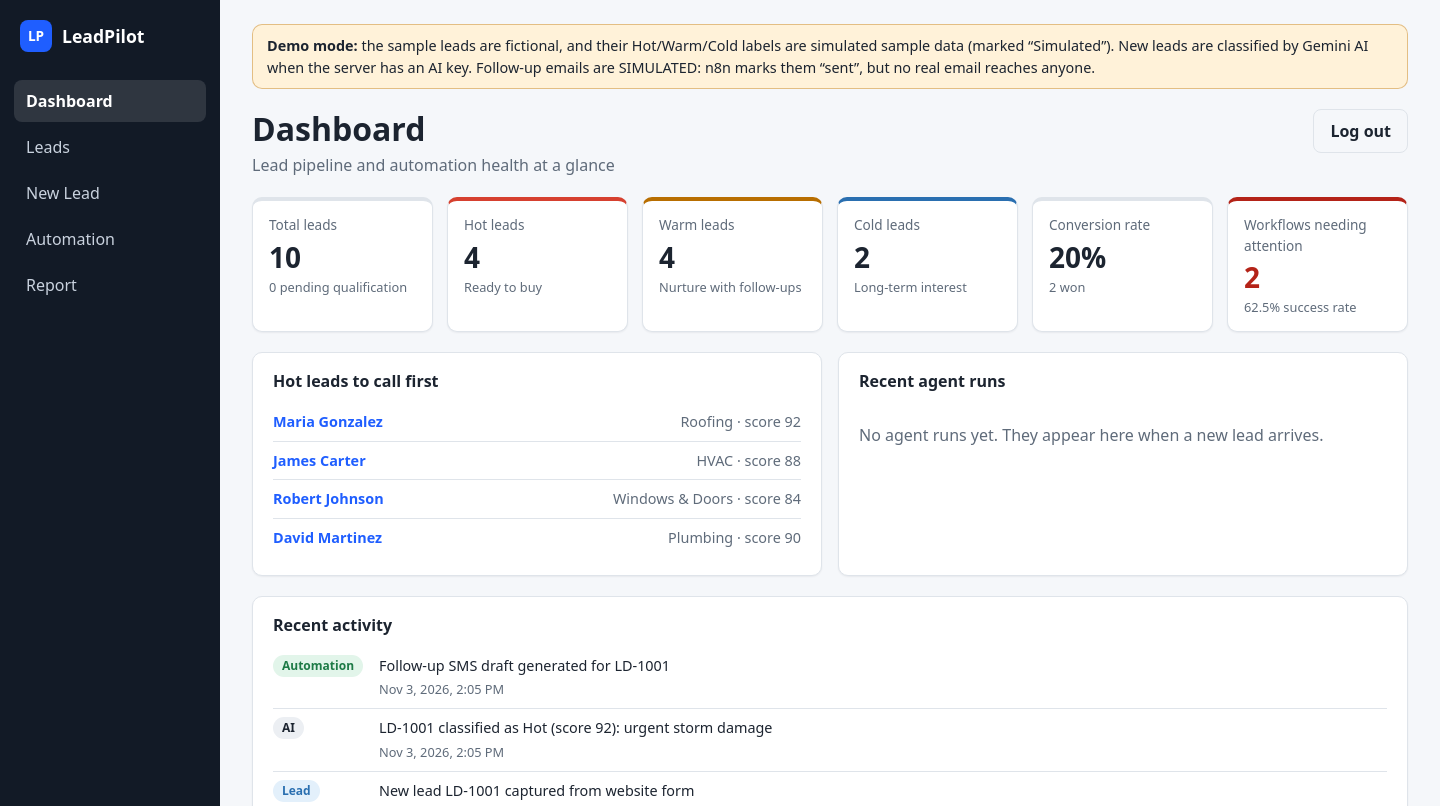
Test: App › shows field errors when an empty lead form is submitted
The width and height of the screenshot is (1440, 806).
Expected: the heading "Hot leads to call first" is shown, left=273, top=370, right=438, bottom=392
Click the button "New Lead" at (110, 193), box left=14, top=172, right=206, bottom=214
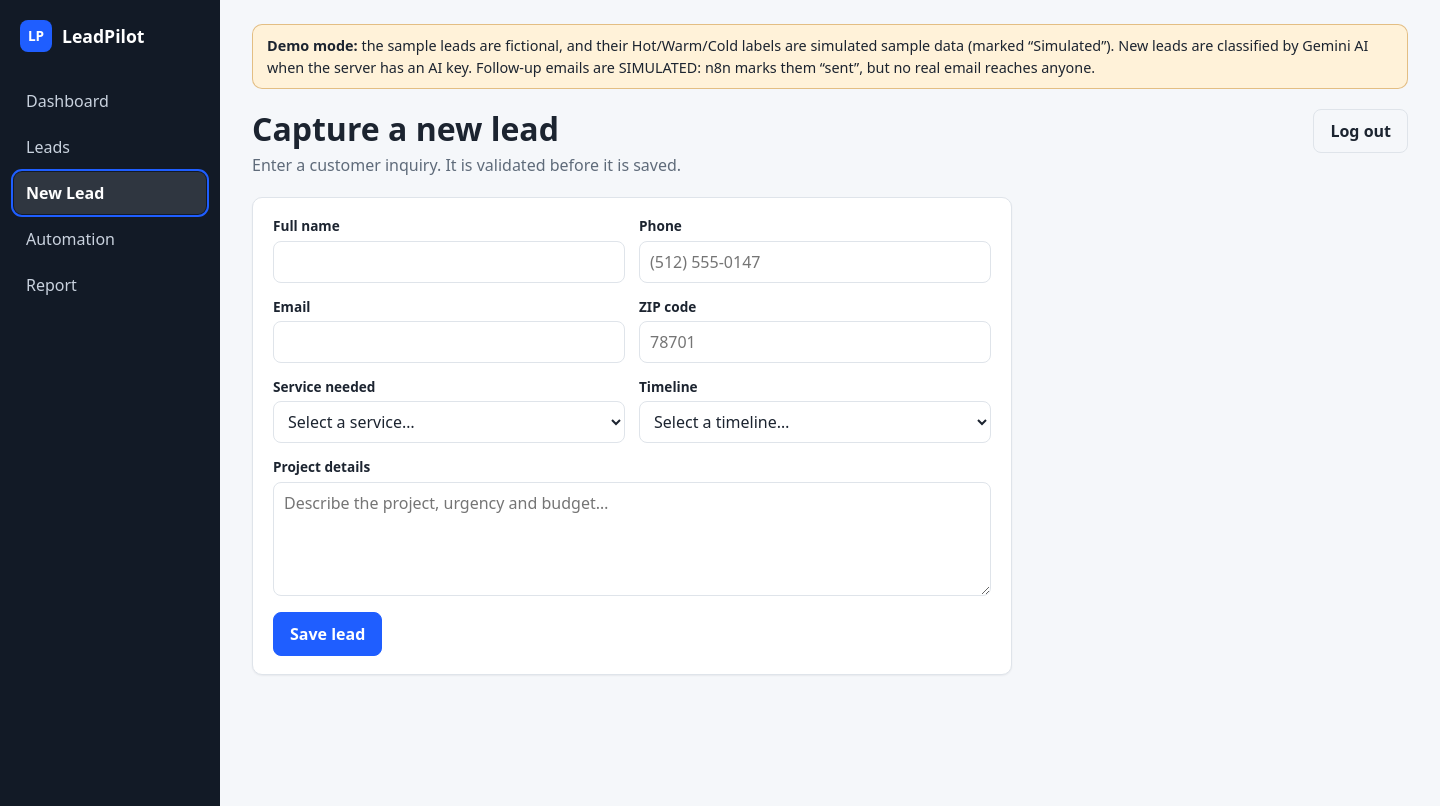
Click the button "Save lead" at (328, 634), box left=273, top=612, right=382, bottom=656
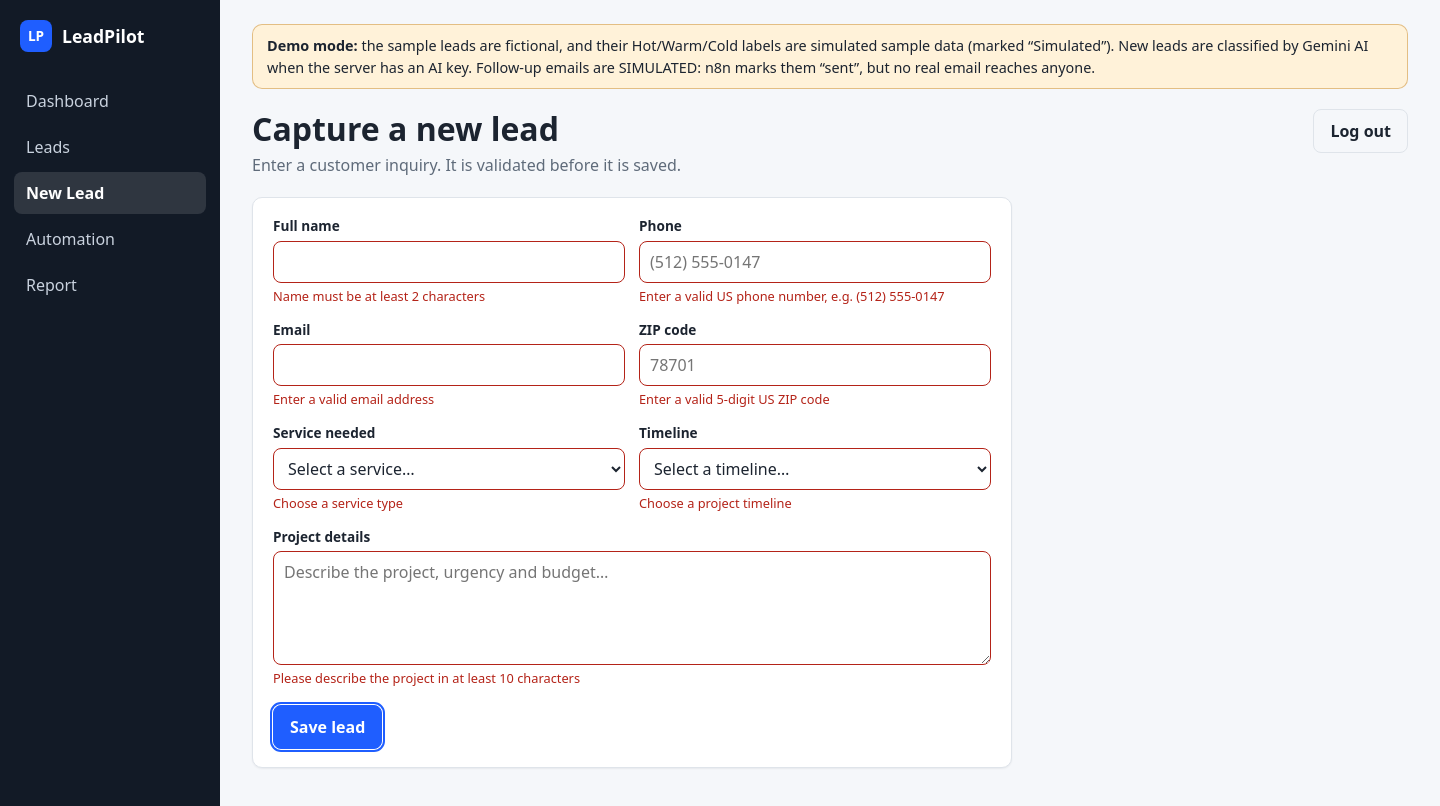
Now the text "Name must be at least 2 characters" is shown, box left=273, top=287, right=485, bottom=305
Now the text "Enter a valid US phone number, e.g. (512) 555-0147" is shown, box left=639, top=287, right=991, bottom=306
